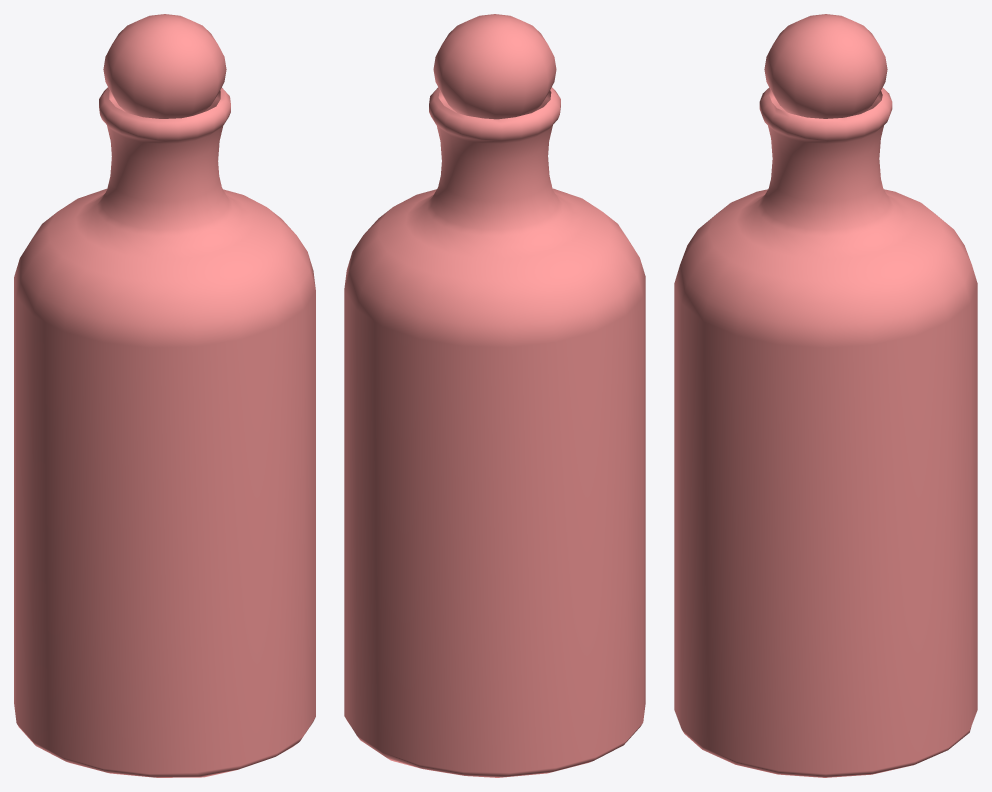
Rendered from SM_Jar_03_Unity.fbx.
3 renders of one model, left to right at view 1: azimuth 30°, elevation 25°; view 2: azimuth 150°, elevation 25°; view 3: azimuth 270°, elevation 25°, orthographic.
Parts seen in each view (by area): view 1: SM_Jar_03; view 2: SM_Jar_03; view 3: SM_Jar_03.
Part boxes in pixels (left/top/right/bottom): SM_Jar_03: left=14, top=14, right=315, bottom=777; SM_Jar_03: left=344, top=14, right=645, bottom=777; SM_Jar_03: left=674, top=14, right=977, bottom=777.
Bounding box in the file's own units: 18 × 45.58 × 18.
